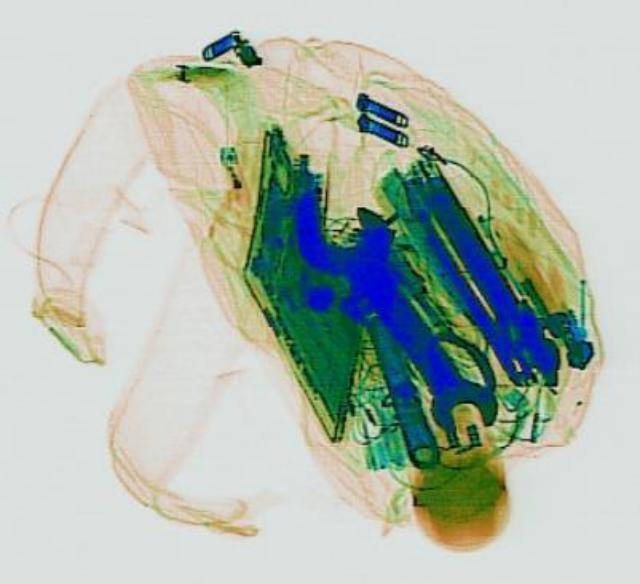Wrench: (298, 195, 510, 443)
